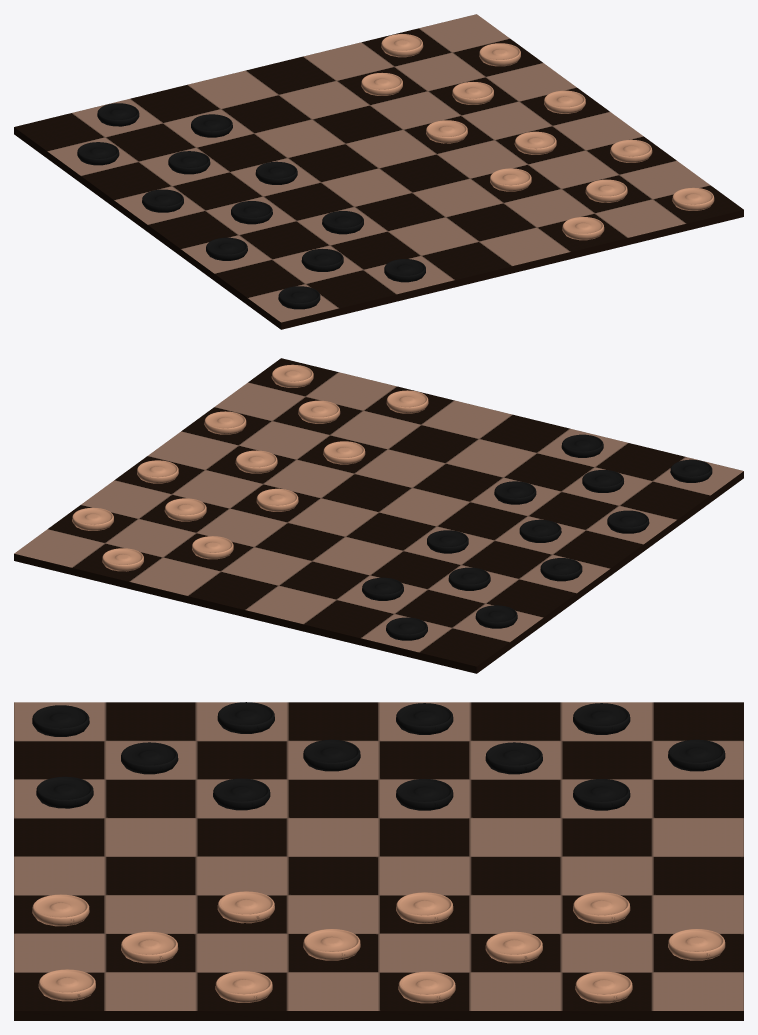
The model's file is CheckersGame.fbx.
The picture shows the model from 3 angles, top to bottom: view 1: azimuth 30°, elevation 25°; view 2: azimuth 150°, elevation 25°; view 3: azimuth 270°, elevation 25°; orthographic projection. The views are drawn at different scales.
Parts seen in each view (by area): view 1: Board, Black_Checkers, White_Checkers; view 2: Board, White_Checkers, Black_Checkers; view 3: Board, White_Checkers, Black_Checkers.
Part boxes in pixels (box(x1,y1,x2,y2)): Board: box(14, 14, 743, 329); Black_Checkers: box(77, 103, 425, 309); White_Checkers: box(361, 34, 714, 240); Board: box(14, 358, 743, 673); White_Checkers: box(72, 364, 428, 571); Black_Checkers: box(362, 434, 712, 640); Board: box(14, 702, 743, 1020); White_Checkers: box(32, 891, 725, 1003); Black_Checkers: box(32, 702, 725, 810).
Bounding box in the file's own units: 50.59 × 1.46 × 50.59.
3 materials, 3 textured.
